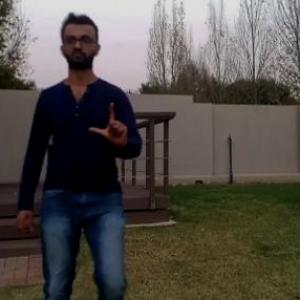land_hand: (82, 98, 133, 155)
